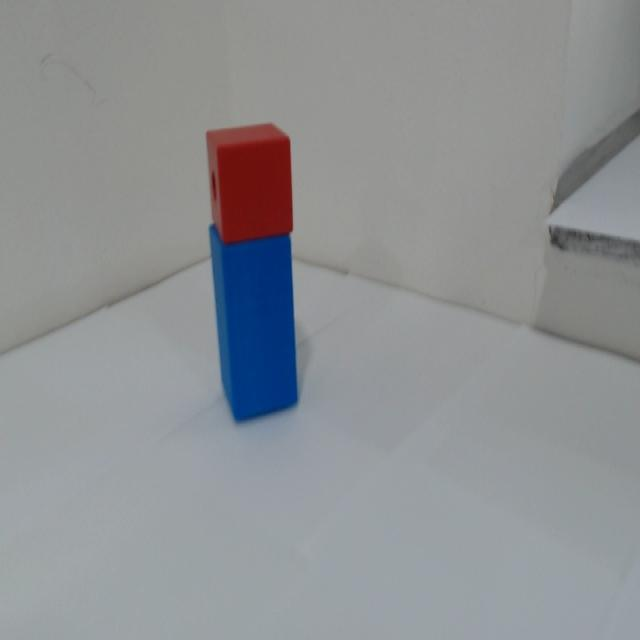cube: (199, 117, 313, 243)
